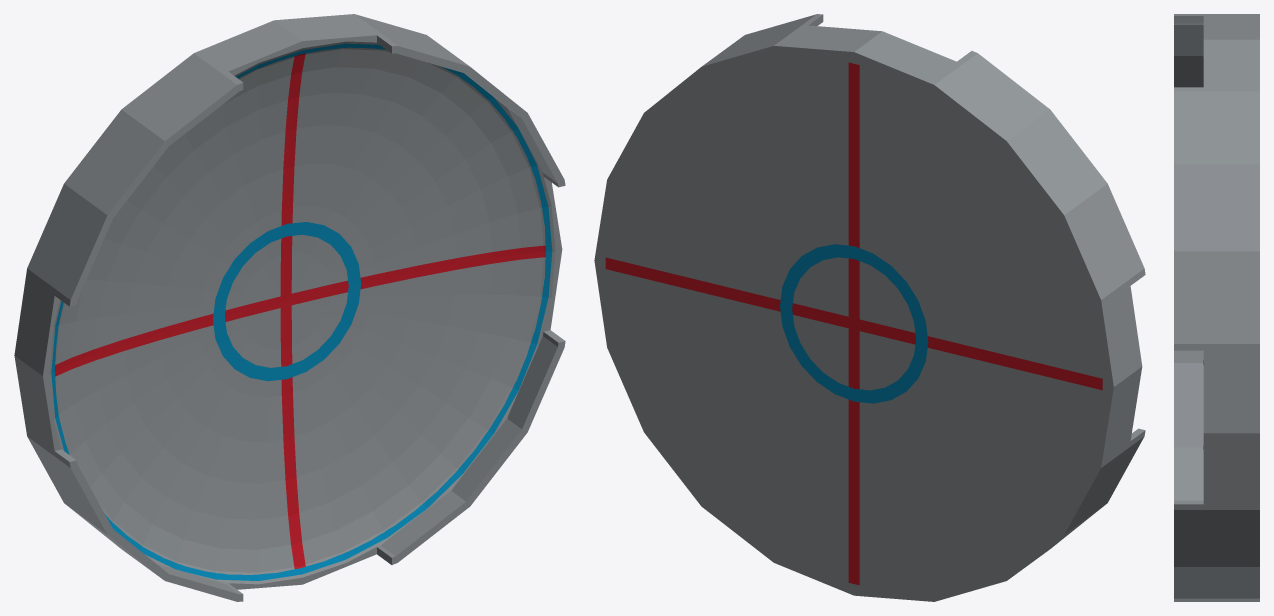
Rendered from _bey_stadium.fbx.
3 renders of one model, left to right at view 1: azimuth 30°, elevation 25°; view 2: azimuth 150°, elevation 25°; view 3: azimuth 270°, elevation 25°, orthographic.
Parts seen in each view (by area): view 1: Mesh_Mesh_head_geo.001_lambert2SG.001; view 2: Mesh_Mesh_head_geo.001_lambert2SG.001; view 3: Mesh_Mesh_head_geo.001_lambert2SG.001.
Boxes of the visible parts, left/top/right/bottom form: Mesh_Mesh_head_geo.001_lambert2SG.001: left=14, top=14, right=565, bottom=601; Mesh_Mesh_head_geo.001_lambert2SG.001: left=594, top=14, right=1145, bottom=601; Mesh_Mesh_head_geo.001_lambert2SG.001: left=1174, top=14, right=1259, bottom=601.
Size of the model in its own units: 200 by 200 by 29.
